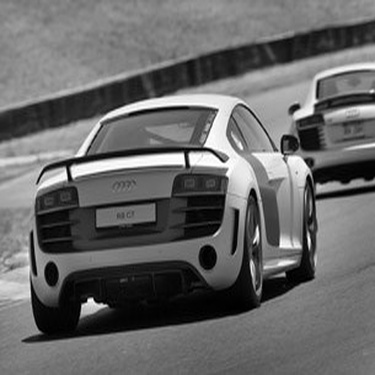car: (22, 87, 321, 344), (282, 56, 367, 189)
